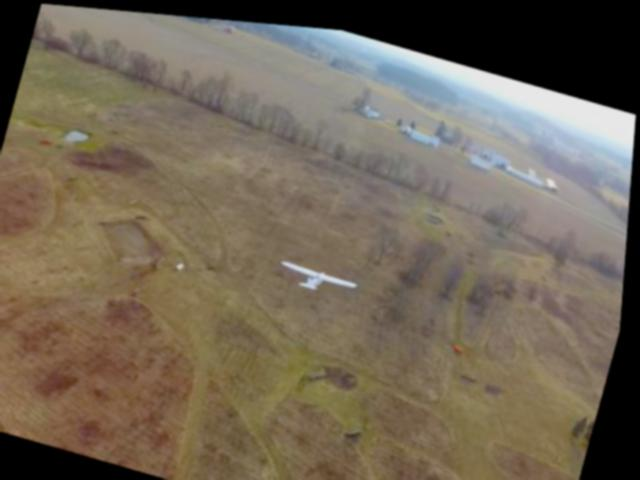uav: (272, 242, 373, 301)
